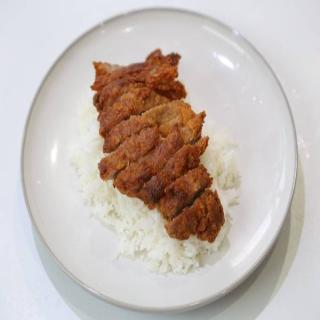carbs: (69, 134, 178, 276)
fried_pork_rice: (53, 38, 250, 290)
meat: (90, 58, 224, 244)
